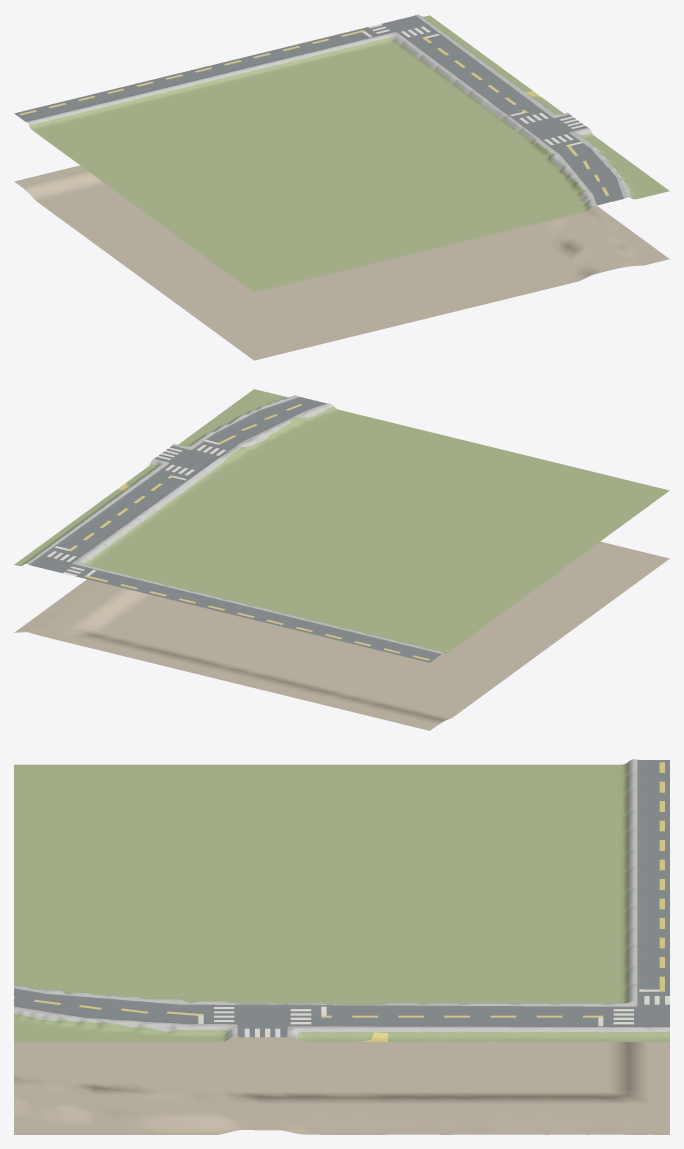
The picture shows the model from 3 angles, top to bottom: view 1: azimuth 30°, elevation 25°; view 2: azimuth 150°, elevation 25°; view 3: azimuth 270°, elevation 25°; orthographic projection. The views are drawn at different scales.
Parts seen in each view (by area): view 1: s_-11_-3__grass, s_-11_-3__soil, s_-11_-3__asphalt, s_-11_-3__stone_paving, s_-11_-3__yellow_marking, s_-11_-3__white_marking; view 2: s_-11_-3__grass, s_-11_-3__soil, s_-11_-3__asphalt, s_-11_-3__stone_paving, s_-11_-3__yellow_marking, s_-11_-3__white_marking; view 3: s_-11_-3__grass, s_-11_-3__soil, s_-11_-3__asphalt, s_-11_-3__stone_paving, s_-11_-3__yellow_marking, s_-11_-3__white_marking.
Boxes of the visible parts, x1=… form: s_-11_-3__grass: x1=29, y1=15, x2=669, y2=292; s_-11_-3__soil: x1=14, y1=165, x2=669, y2=360; s_-11_-3__asphalt: x1=14, y1=15, x2=623, y2=205; s_-11_-3__stone_paving: x1=26, y1=14, x2=631, y2=207; s_-11_-3__yellow_marking: x1=19, y1=30, x2=610, y2=202; s_-11_-3__white_marking: x1=362, y1=24, x2=584, y2=145; s_-11_-3__grass: x1=14, y1=389, x2=669, y2=653; s_-11_-3__soil: x1=14, y1=541, x2=669, y2=730; s_-11_-3__asphalt: x1=29, y1=397, x2=441, y2=662; s_-11_-3__stone_paving: x1=25, y1=395, x2=443, y2=653; s_-11_-3__yellow_marking: x1=68, y1=400, x2=429, y2=660; s_-11_-3__white_marking: x1=47, y1=440, x2=225, y2=576; s_-11_-3__grass: x1=14, y1=761, x2=669, y2=1041; s_-11_-3__soil: x1=14, y1=1004, x2=669, y2=1134; s_-11_-3__asphalt: x1=14, y1=759, x2=669, y2=1037; s_-11_-3__stone_paving: x1=14, y1=759, x2=669, y2=1039; s_-11_-3__yellow_marking: x1=14, y1=762, x2=664, y2=1041; s_-11_-3__white_marking: x1=198, y1=989, x2=669, y2=1037.
Bounding box in the file's own units: 128 × 21.29 × 128.
